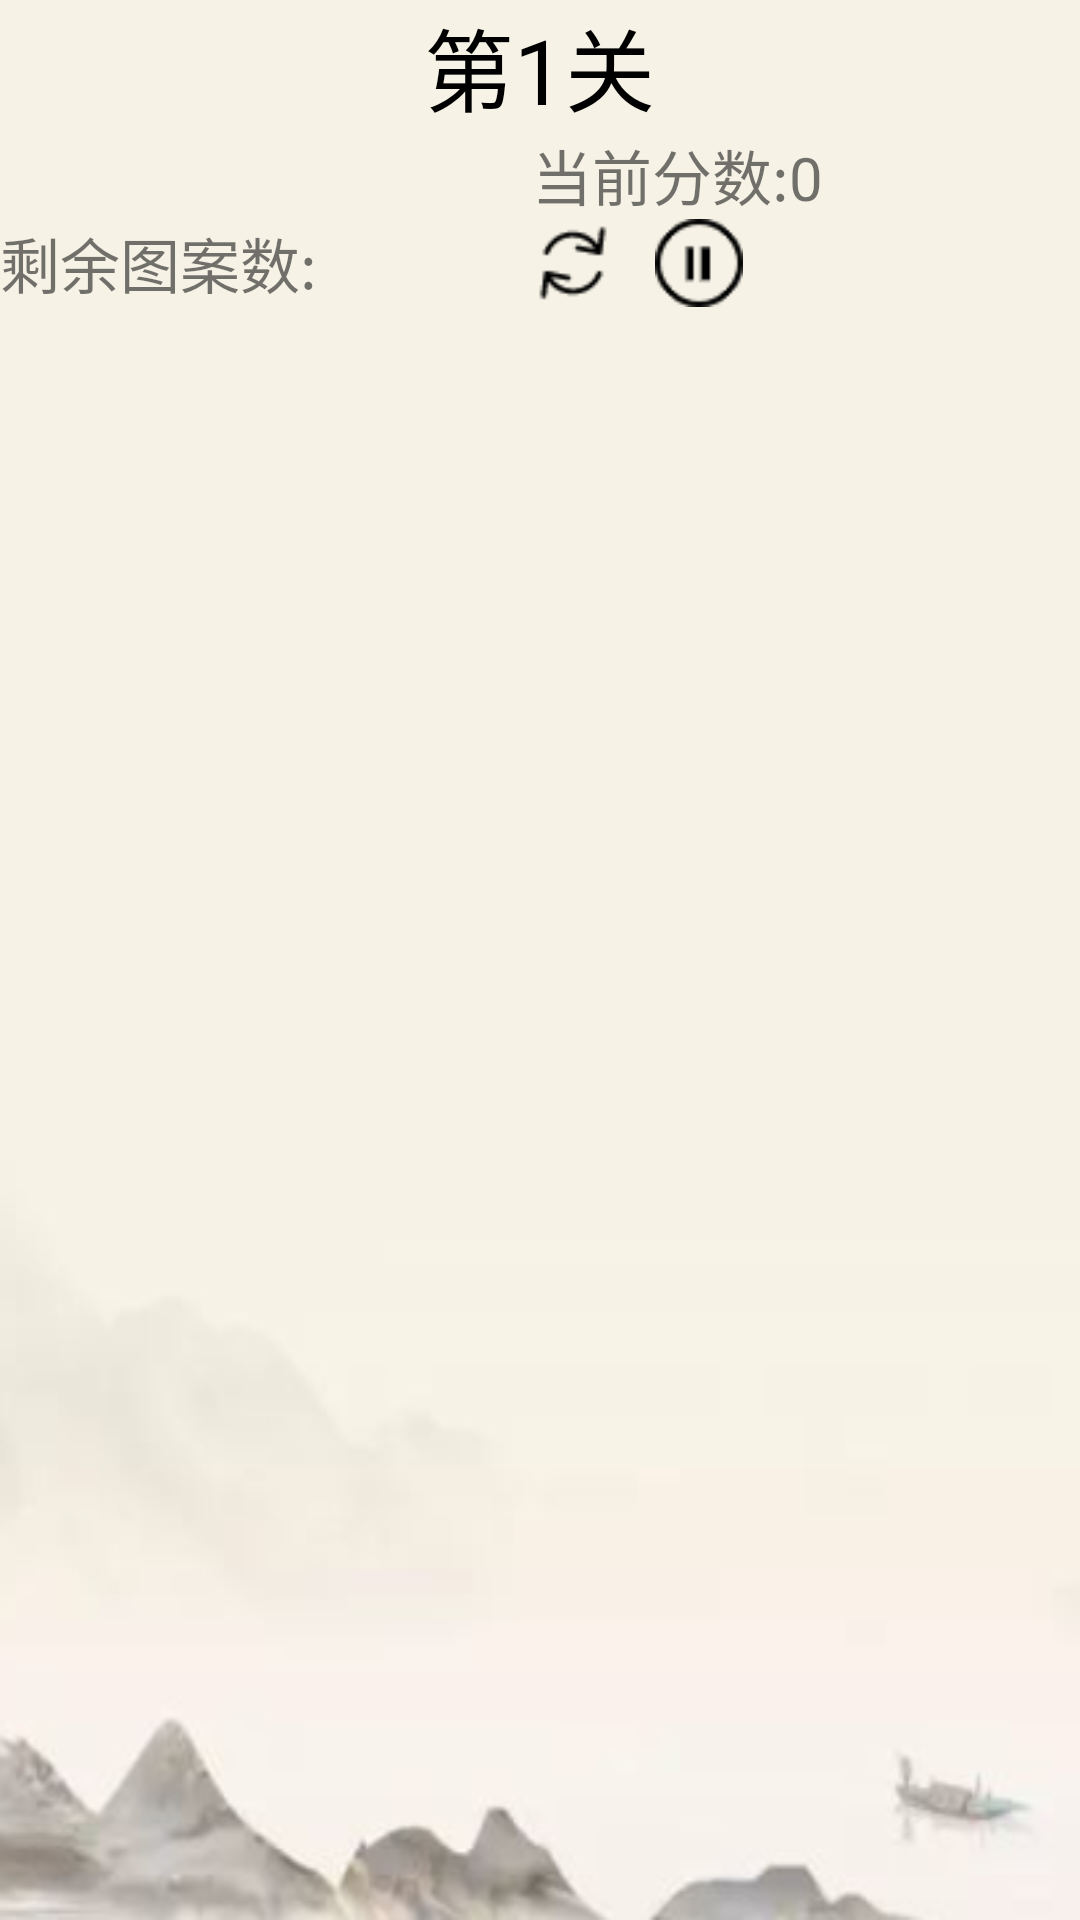

Icon bounding boxes for this 1080px x 1920px phone screenshot, format [left=x1, top=y1, right=x2, bottom=y2]:
reset: [left=539, top=226, right=607, bottom=300]
stop: [left=655, top=219, right=743, bottom=307]
